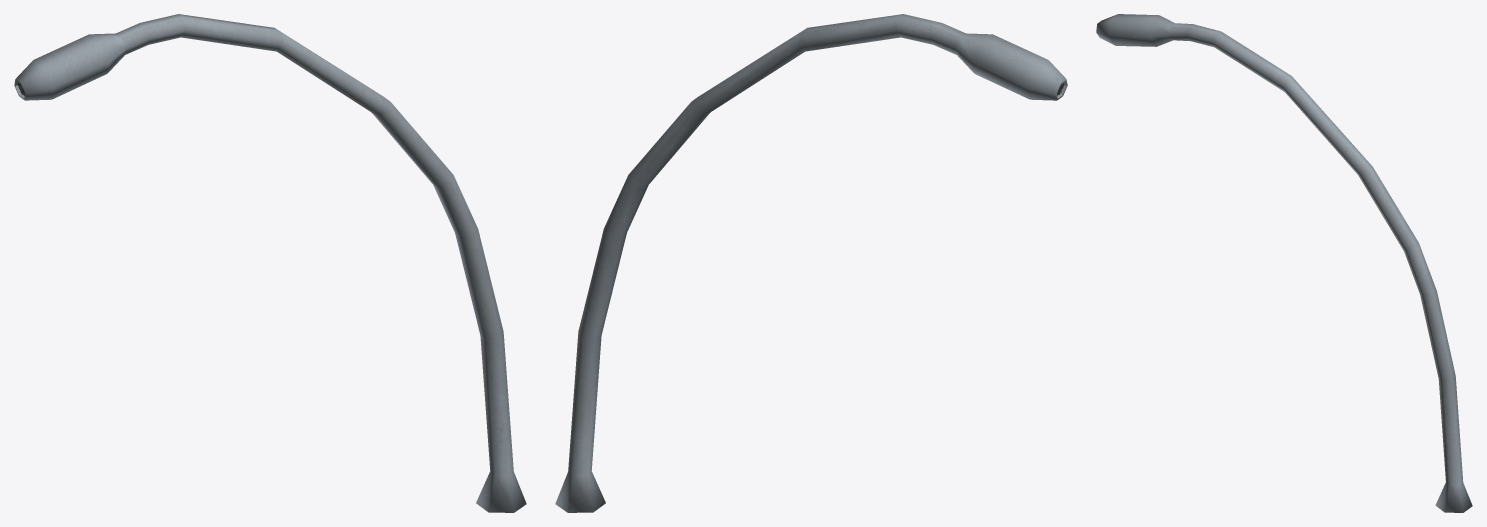
File: reading_lamp.FBX
3 views of the same model, side by side, from view 1: azimuth 30°, elevation 25°; view 2: azimuth 150°, elevation 25°; view 3: azimuth 330°, elevation 25° (orthographic). The views are drawn at different scales.
Visible parts, largest first — view 1: lamp01; view 2: lamp01; view 3: lamp01.
Part boxes in pixels (bbox=[...]): lamp01: bbox=[14, 14, 526, 512]; lamp01: bbox=[555, 14, 1067, 512]; lamp01: bbox=[1096, 14, 1472, 512].
Bounding box in the file's own units: 19.32 × 20.83 × 1.7.
1 material, 1 textured.
